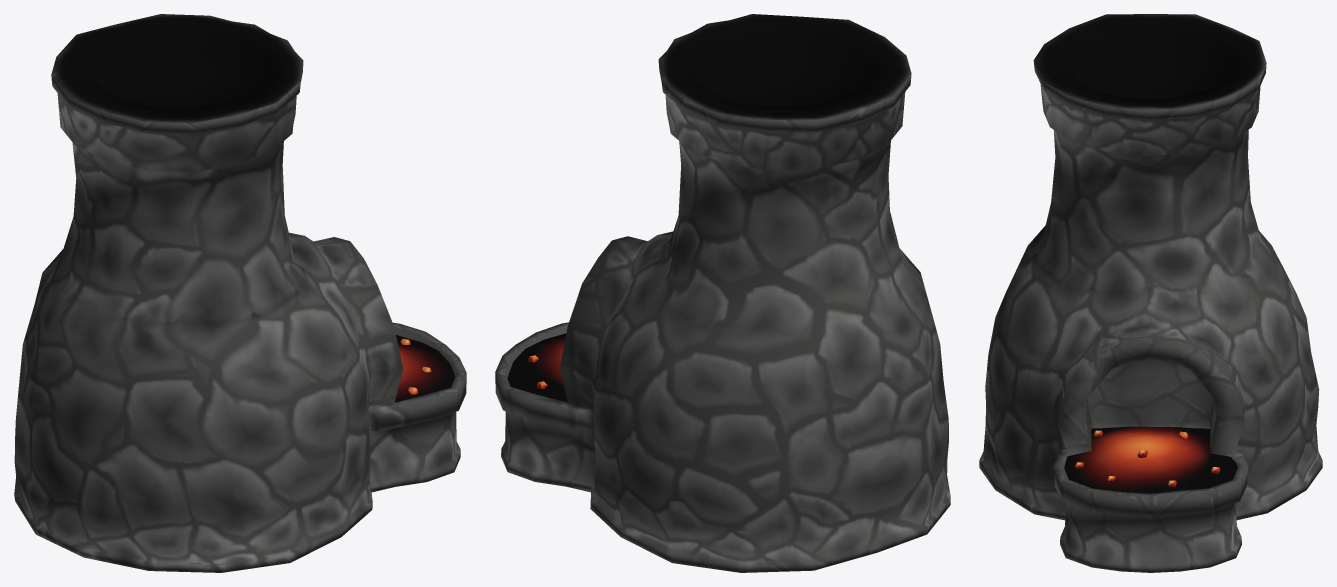
Rendered from furnace.glb.
3 views of the same model, side by side, from view 1: azimuth 30°, elevation 25°; view 2: azimuth 150°, elevation 25°; view 3: azimuth 270°, elevation 25° (orthographic). The views are drawn at different scales.
Visible parts, largest first — view 1: Cylinder, Plane; view 2: Cylinder, Plane; view 3: Cylinder, Plane.
Boxes of the visible parts, <box> form: Cylinder: <box>14,14,466,572</box>; Plane: <box>394,335,455,402</box>; Cylinder: <box>495,14,950,572</box>; Plane: <box>507,333,567,402</box>; Cylinder: <box>979,14,1322,572</box>; Plane: <box>1064,426,1237,493</box>.
Size of the model in its own units: 4.35 by 4.35 by 3.39.
3 materials, 3 textured.
